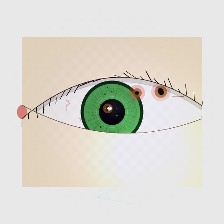foreign_body_visible: (95, 99, 120, 118)
